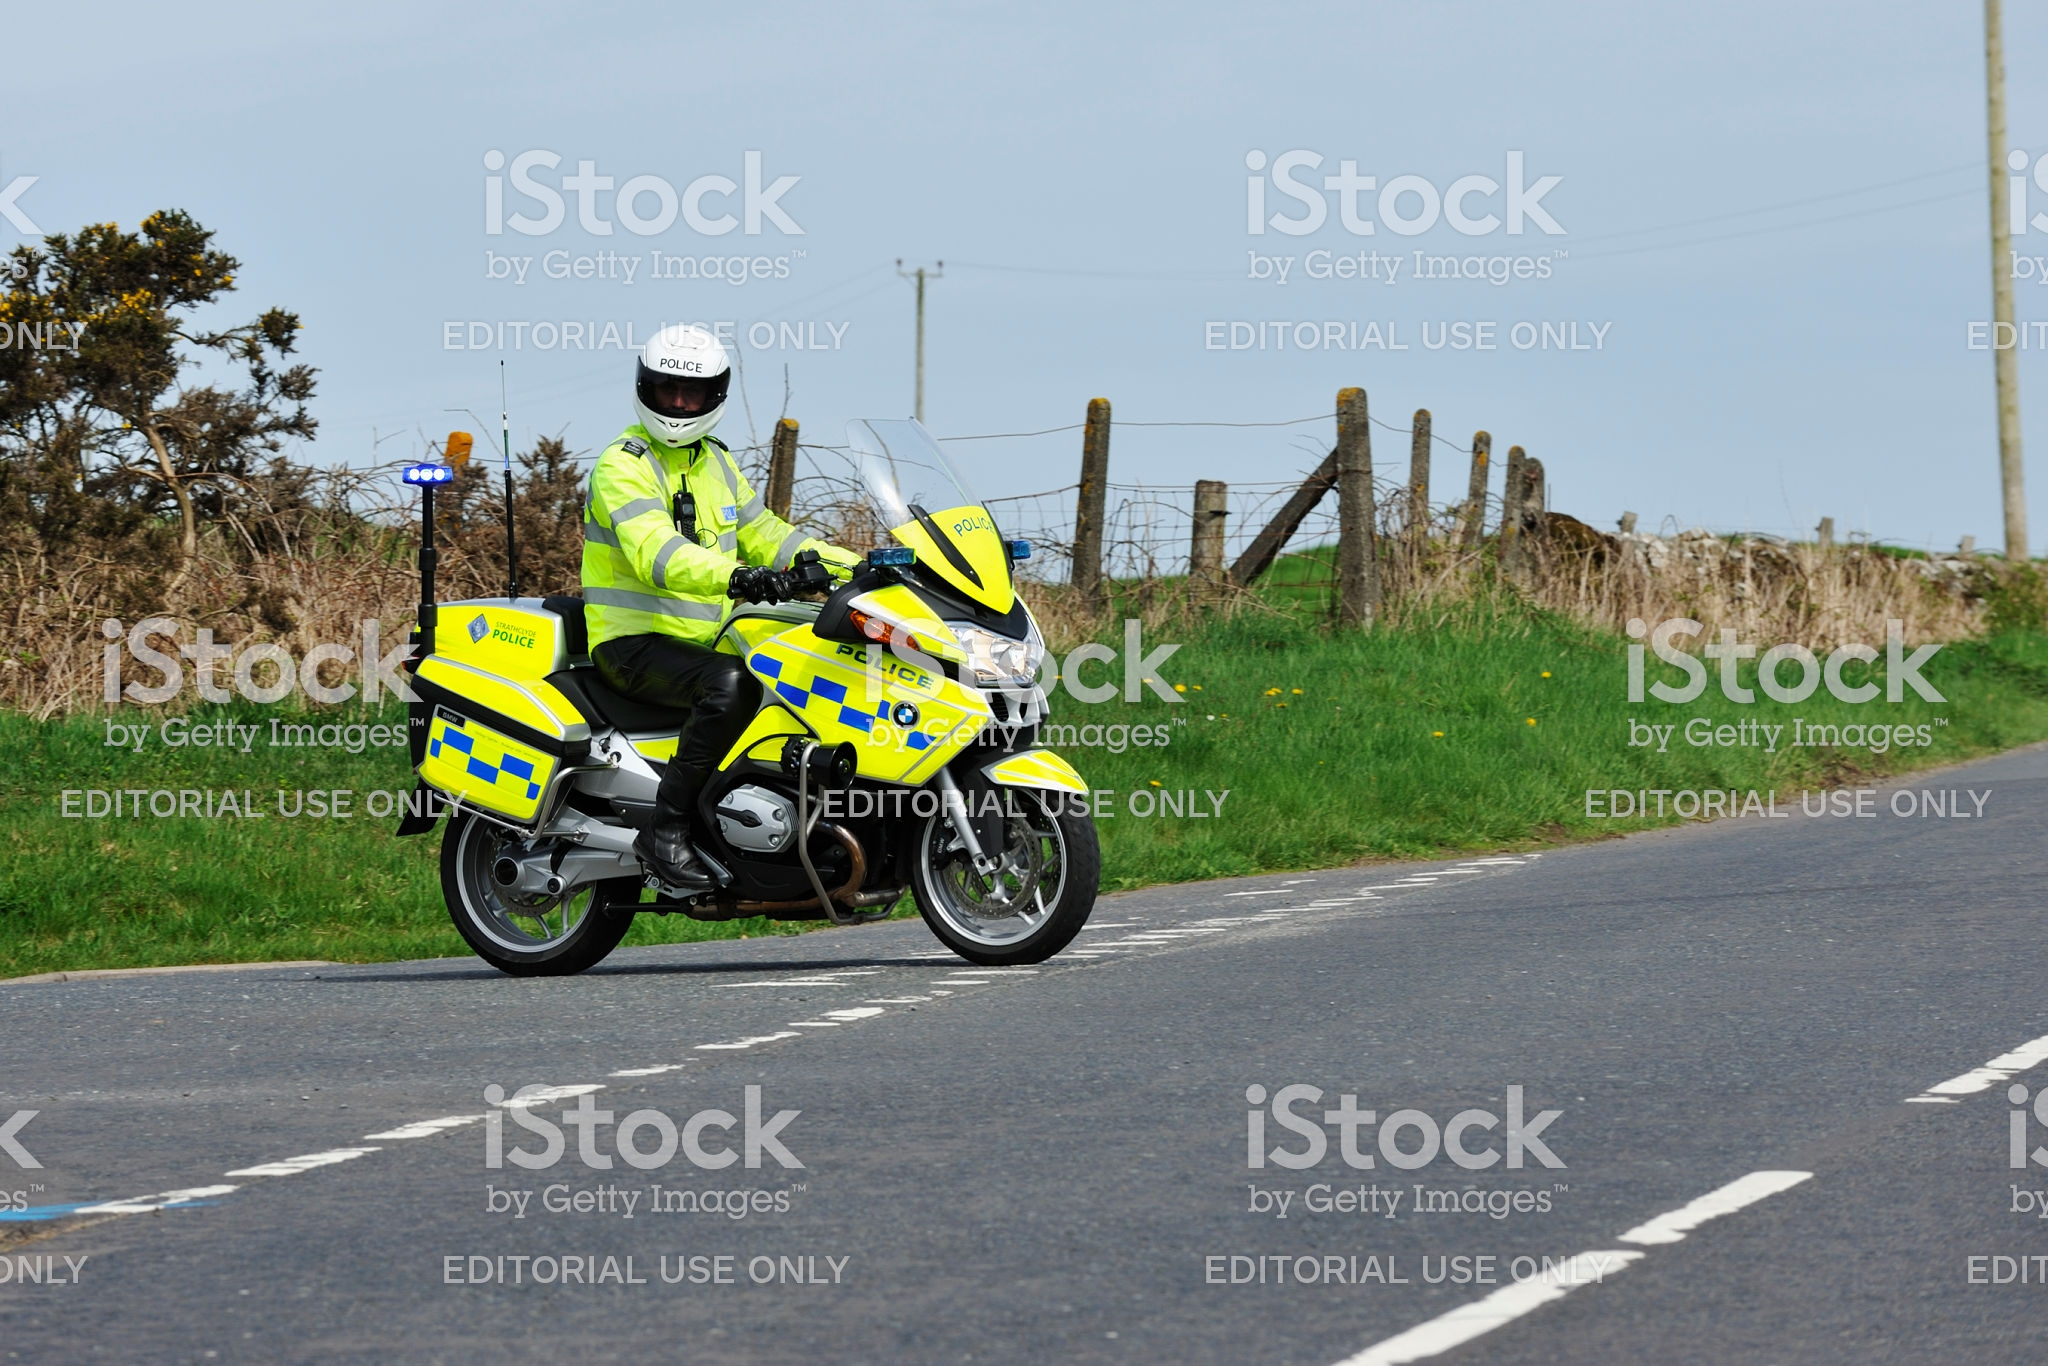helmet: (625, 311, 741, 444)
